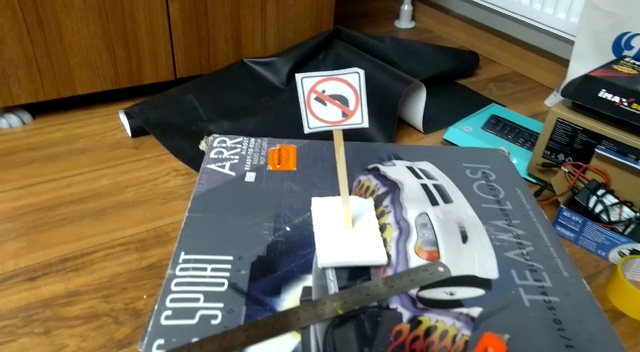sola_donulmez: (300, 71, 364, 125)
